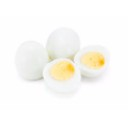begg: (44, 59, 80, 89), (50, 28, 82, 56), (16, 43, 41, 78)
